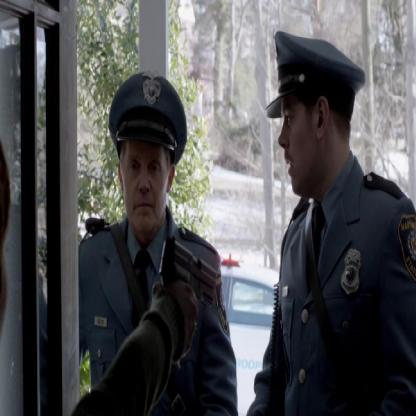Guns: (159, 235, 218, 331)
